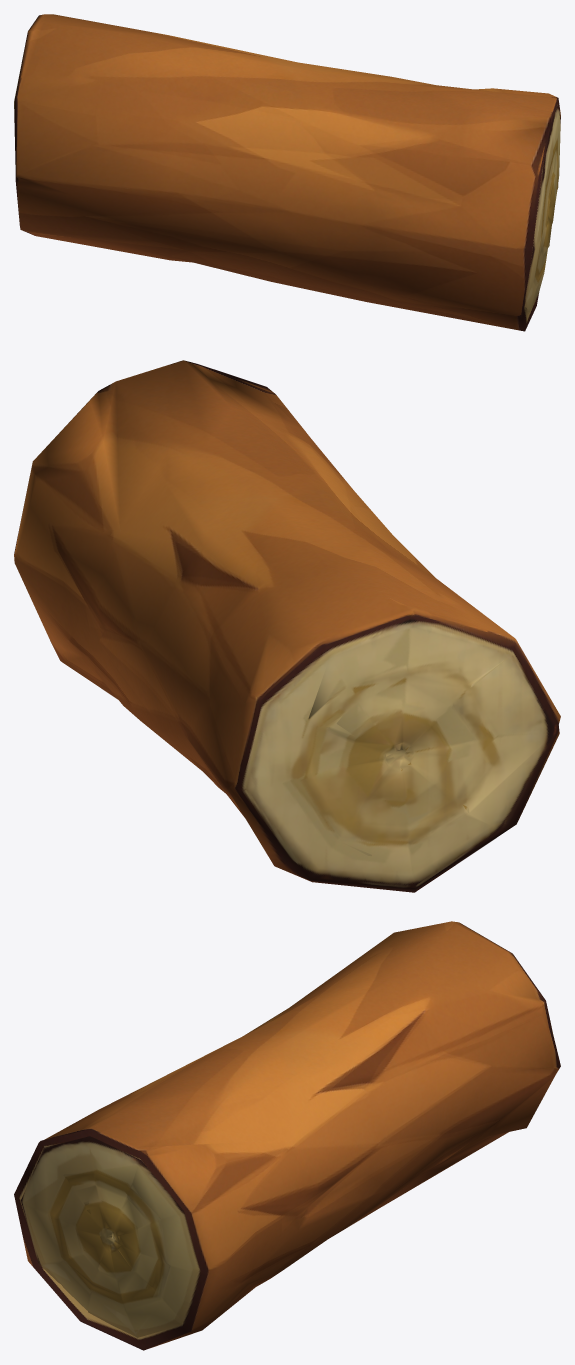
File: log_3d_model.glb
3 views of the same model, one above another, from view 1: azimuth 30°, elevation 25°; view 2: azimuth 150°, elevation 25°; view 3: azimuth 270°, elevation 25° (orthographic). The views are drawn at different scales.
Visible parts, largest first — view 1: world; view 2: world; view 3: world.
Boxes of the visible parts, bbox=[...] form: world: bbox=[14, 14, 560, 331]; world: bbox=[14, 360, 560, 892]; world: bbox=[14, 921, 560, 1350].
Size of the model in its own units: 0.998 by 0.5176 by 0.998.
Materials: 1 (1 with a texture image).
